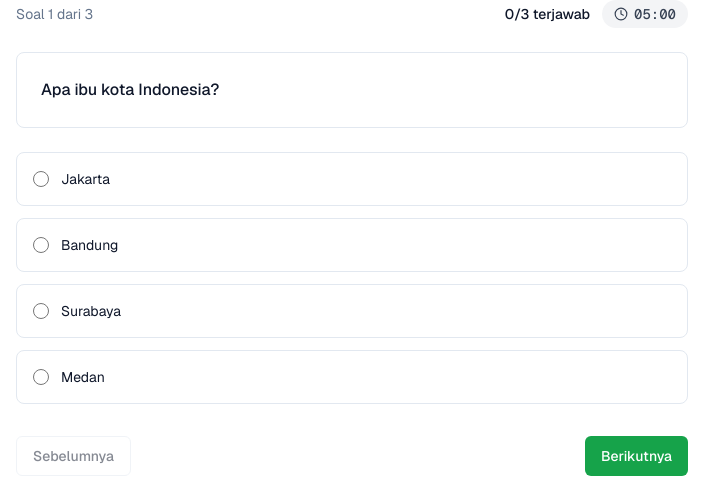
Scenario: QuizComponent › navigates to next question when "Berikutnya" is clicked
Click the button "Berikutnya" at (636, 456), box [585,436,688,476]
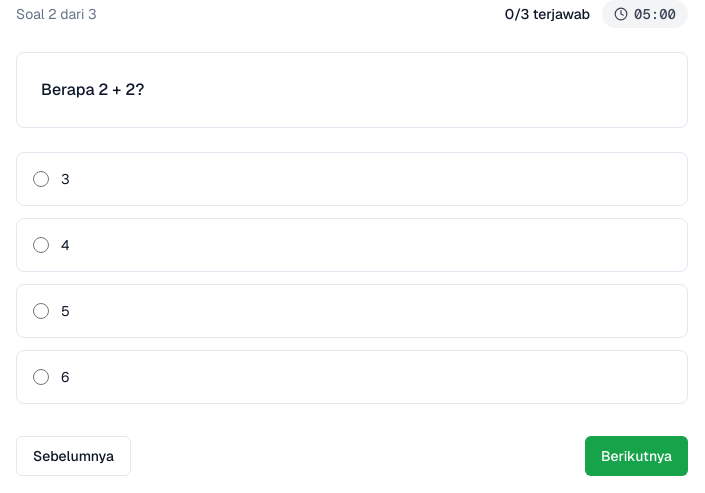
Expected: the text "Berapa 2 + 2?" is shown, [41,79,144,100]
